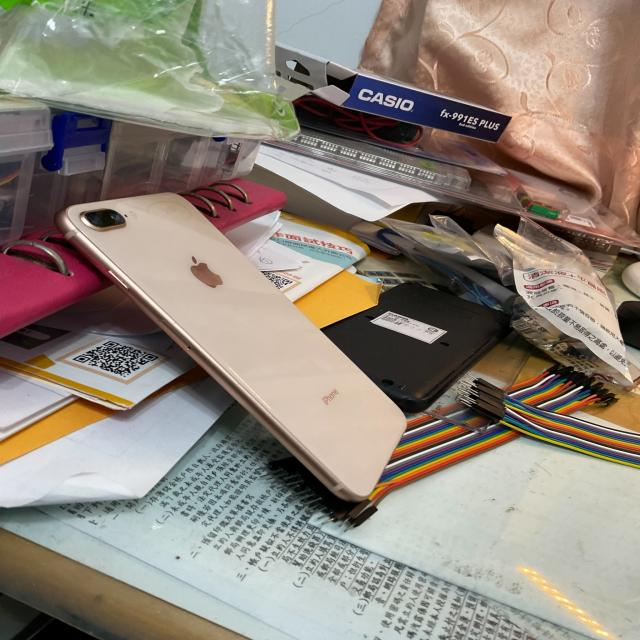Smartphone: (25, 179, 437, 555), (312, 275, 534, 423)
